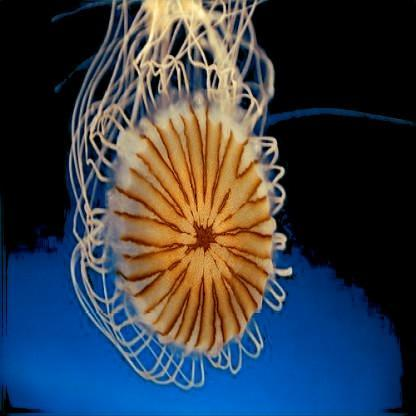Moon: (77, 16, 273, 370)
